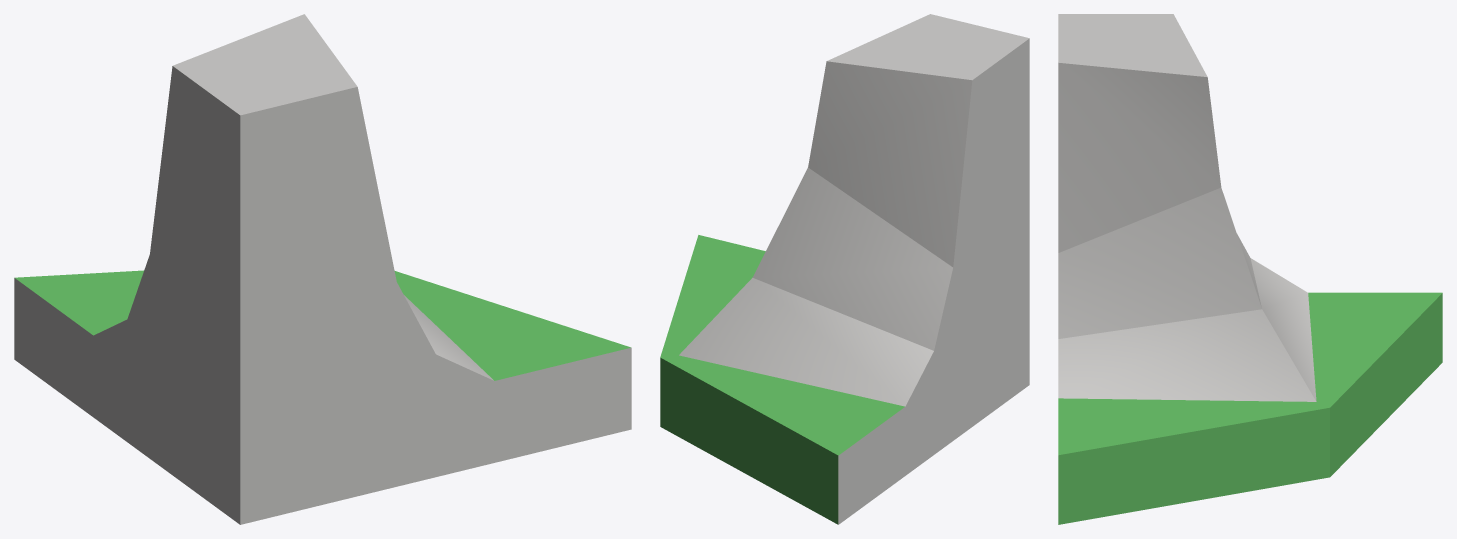
File: Cliff_Base_Corner_Outer_Sm.glb
3 renders of one model, left to right at view 1: azimuth 30°, elevation 25°; view 2: azimuth 150°, elevation 25°; view 3: azimuth 270°, elevation 25°, orthographic. The views are drawn at different scales.
Parts seen in each view (by area): view 1: object1; view 2: object1; view 3: object1.
Part boxes in pixels (<box>): object1: <box>14,14,631,524</box>; object1: <box>660,14,1029,524</box>; object1: <box>1058,14,1442,524</box>.
Size of the model in its own units: 1 by 1 by 1.
